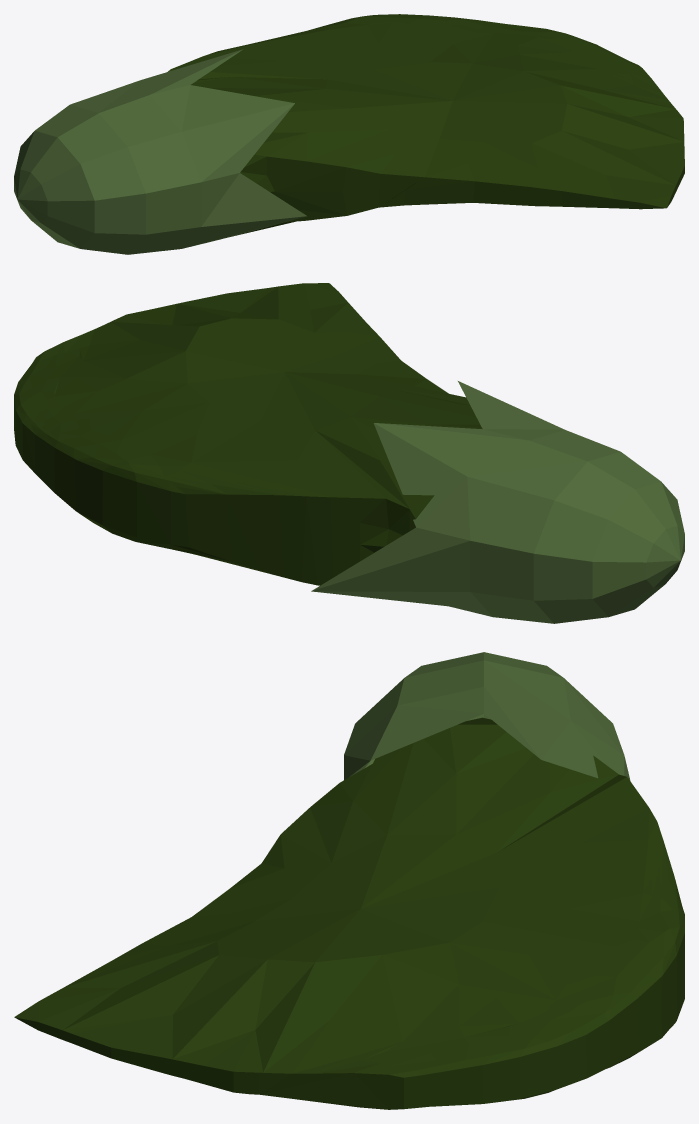
The model's file is CowpeaFlower_closed_highres.obj.
3 renders of one model, top to bottom at view 1: azimuth 30°, elevation 25°; view 2: azimuth 150°, elevation 25°; view 3: azimuth 270°, elevation 25°, orthographic. The views are drawn at different scales.
Visible parts, largest first — view 1: petal, sepal; view 2: petal, sepal; view 3: petal, sepal.
Part boxes in pixels (left/top/right/bottom): petal: left=168, top=14, right=684, bottom=237; sepal: left=14, top=49, right=306, bottom=254; petal: left=14, top=283, right=482, bottom=585; sepal: left=311, top=381, right=684, bottom=623; petal: left=14, top=717, right=684, bottom=1109; sepal: left=344, top=652, right=630, bottom=780.
Bounding box in the file's own units: 0.9534 × 0.227 × 0.6823.
